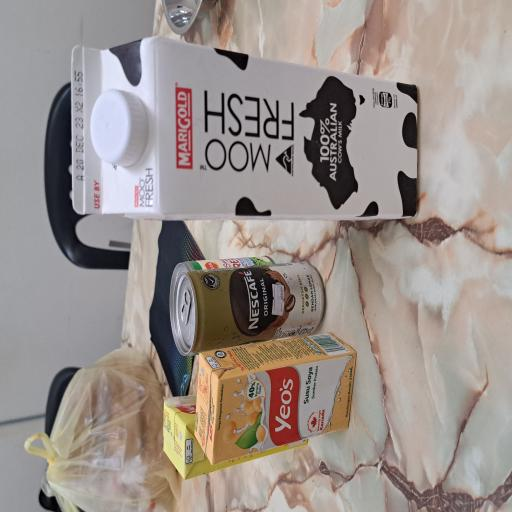can: (116, 227, 194, 434)
drink carton: (215, 92, 355, 512), (37, 259, 136, 477), (26, 216, 89, 411)
plastic bottle cap: (260, 120, 318, 197)
pop tab: (140, 235, 168, 260)
